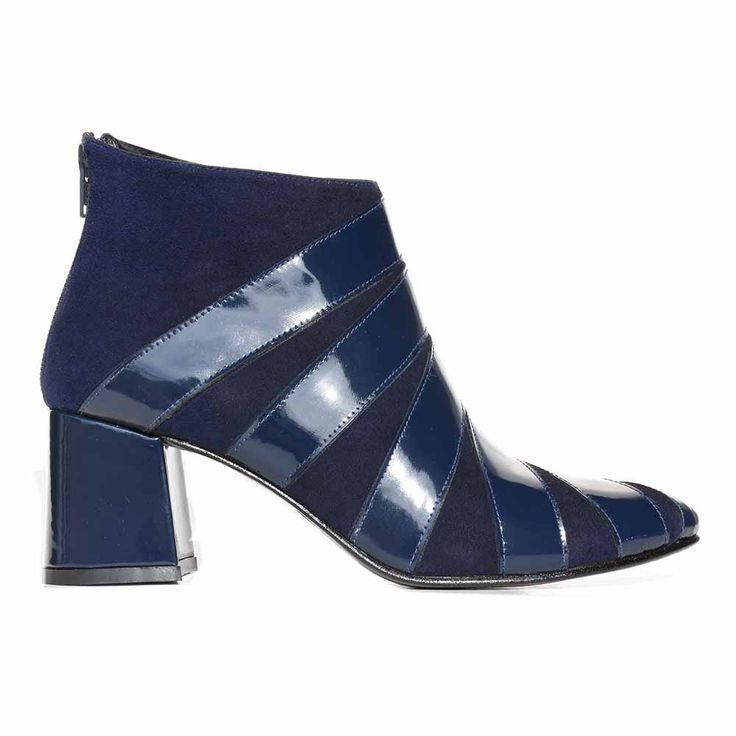gamuza: (38, 132, 698, 582)
